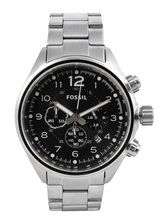watch: (17, 11, 154, 213)
